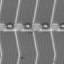dust: (19, 56, 24, 59)
